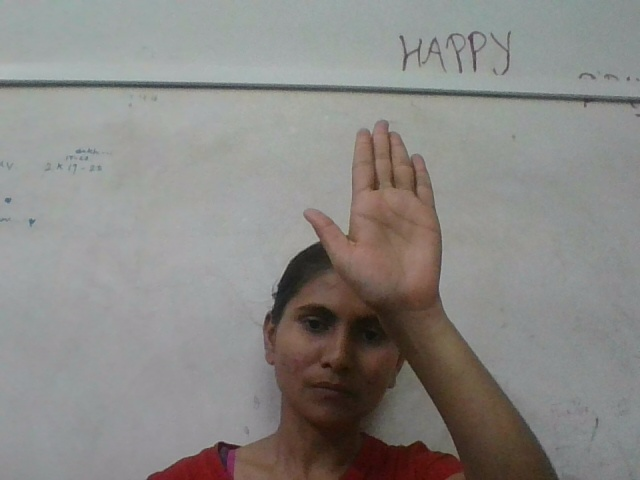Hello: (300, 116, 448, 312)
